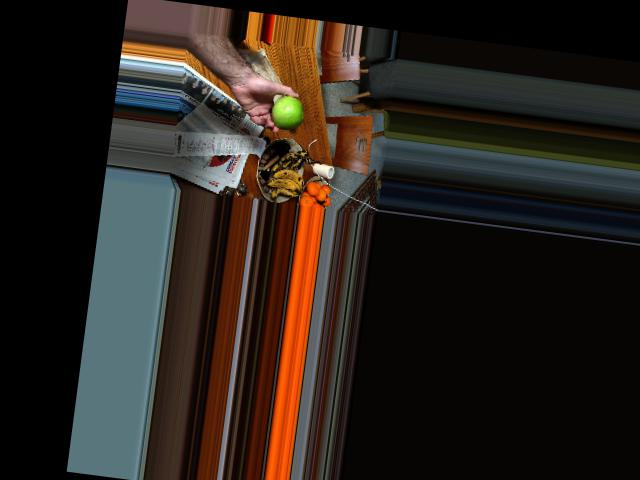apple: (266, 90, 308, 131)
